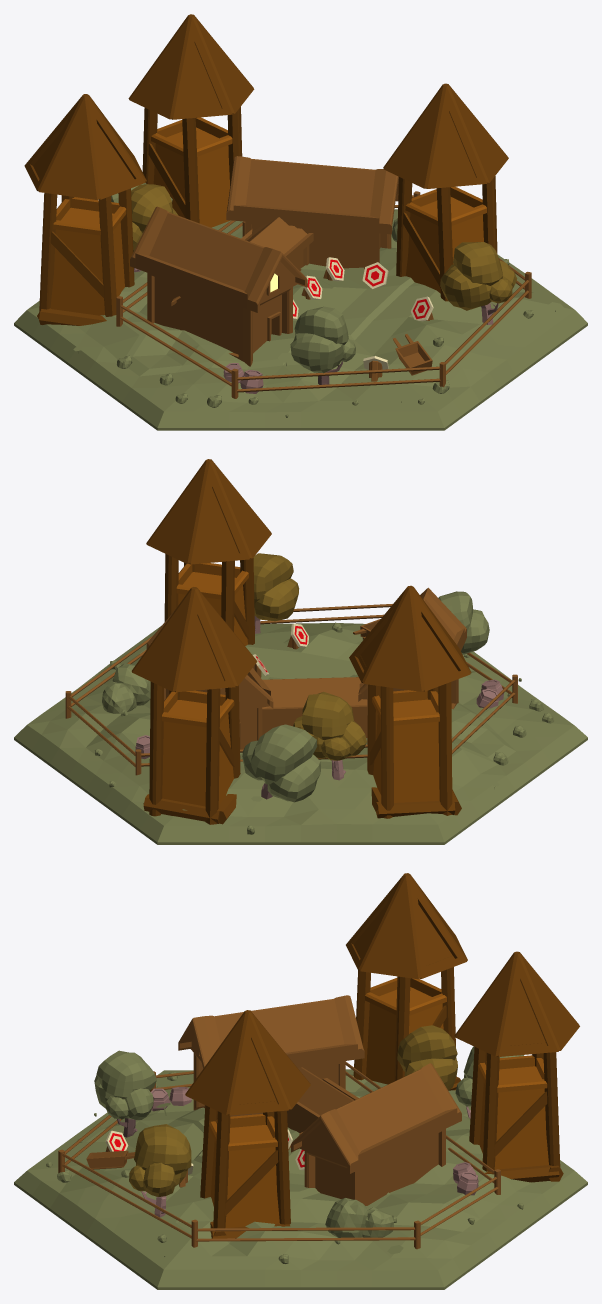
File: archer_range.glb
The picture shows the model from 3 angles, top to bottom: view 1: azimuth 30°, elevation 25°; view 2: azimuth 150°, elevation 25°; view 3: azimuth 270°, elevation 25°; orthographic projection.
Parts seen in each view (by area): view 1: building, land, big_details, small_details; view 2: building, land, big_details, small_details; view 3: building, land, big_details, small_details.
Part boxes in pixels (left/top/right/bottom): building: left=24, top=14, right=531, bottom=398; land: left=14, top=209, right=587, bottom=430; big_details: left=111, top=183, right=517, bottom=393; small_details: left=73, top=259, right=564, bottom=417; building: left=65, top=459, right=517, bottom=824; land: left=14, top=623, right=587, bottom=844; big_details: left=102, top=553, right=503, bottom=802; small_details: left=64, top=622, right=554, bottom=834; building: left=58, top=873, right=579, bottom=1249; land: left=14, top=1069, right=587, bottom=1289; big_details: left=86, top=1025, right=523, bottom=1237; small_details: left=46, top=1072, right=523, bottom=1263.
Bounding box in the file's own units: 1.74 × 0.8889 × 2.
